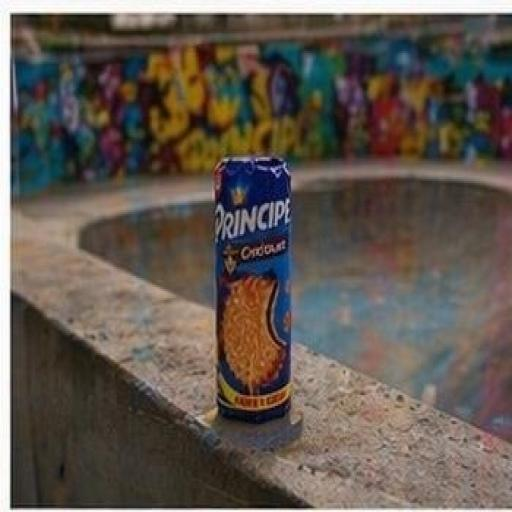prince: (150, 101, 387, 477)
